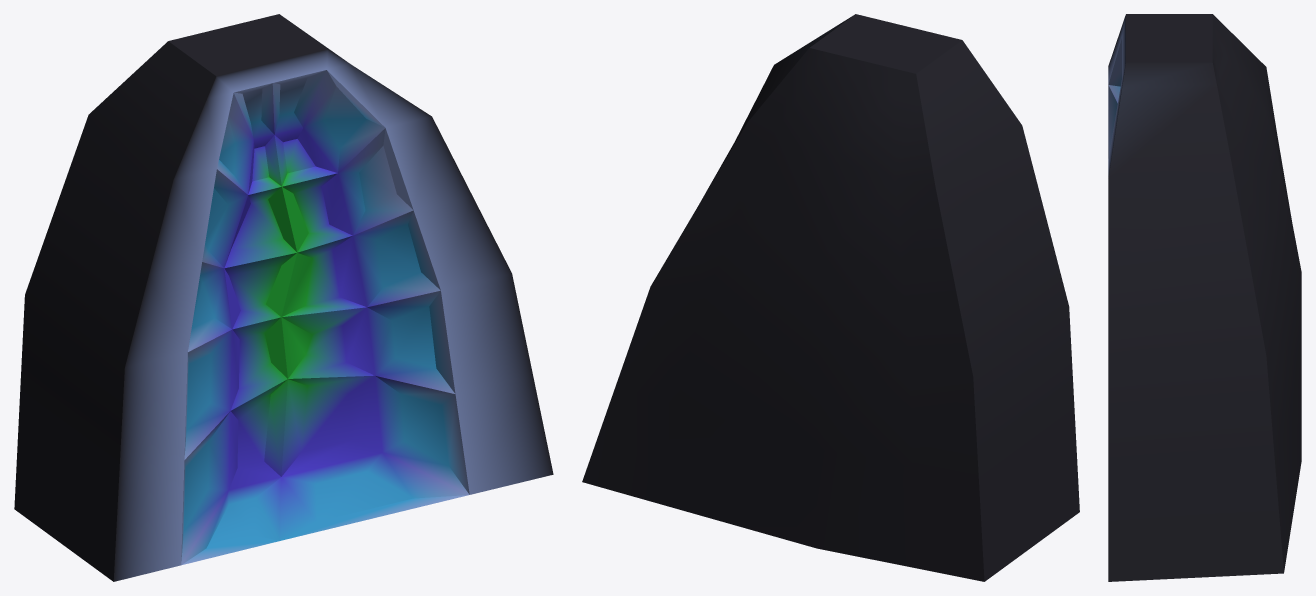
The model's file is geode_bougie.dae.
3 views of the same model, side by side, from view 1: azimuth 30°, elevation 25°; view 2: azimuth 150°, elevation 25°; view 3: azimuth 270°, elevation 25° (orthographic). The views are drawn at different scales.
Parts seen in each view (by area): view 1: geode_bougie_MSH; view 2: geode_bougie_MSH; view 3: geode_bougie_MSH.
Part boxes in pixels (box(x1,y1,x2,y2)): geode_bougie_MSH: box(14, 14, 553, 581); geode_bougie_MSH: box(582, 14, 1079, 581); geode_bougie_MSH: box(1108, 14, 1301, 581).
Bounding box in the file's own units: 0.5428 × 0.5554 × 0.2292.
